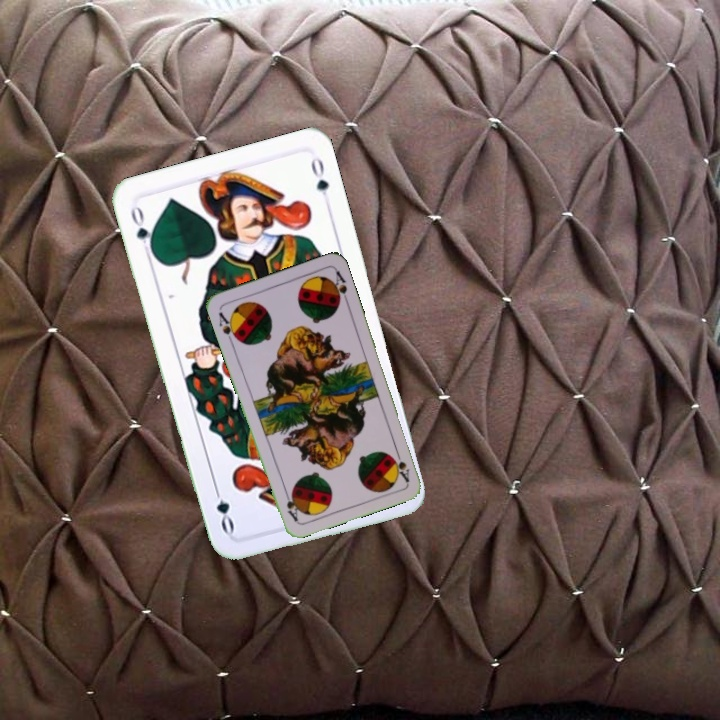GO: (126, 201, 157, 259)
SA: (215, 308, 241, 346), (389, 445, 412, 484)
